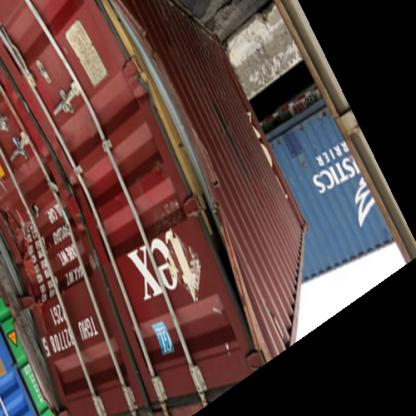Damage: (189, 204, 259, 364)
